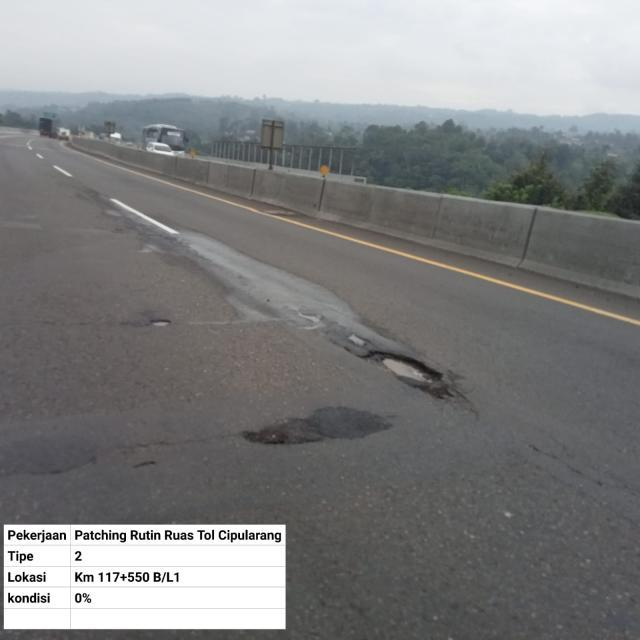Buraco: (355, 349, 458, 401), (292, 308, 334, 338), (240, 427, 292, 447), (344, 331, 372, 349), (146, 317, 174, 329)
